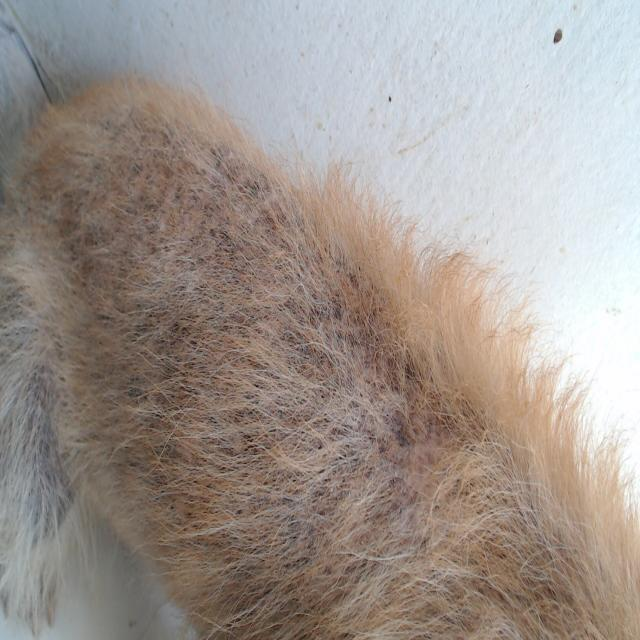demodicosis: (122, 170, 379, 512)
